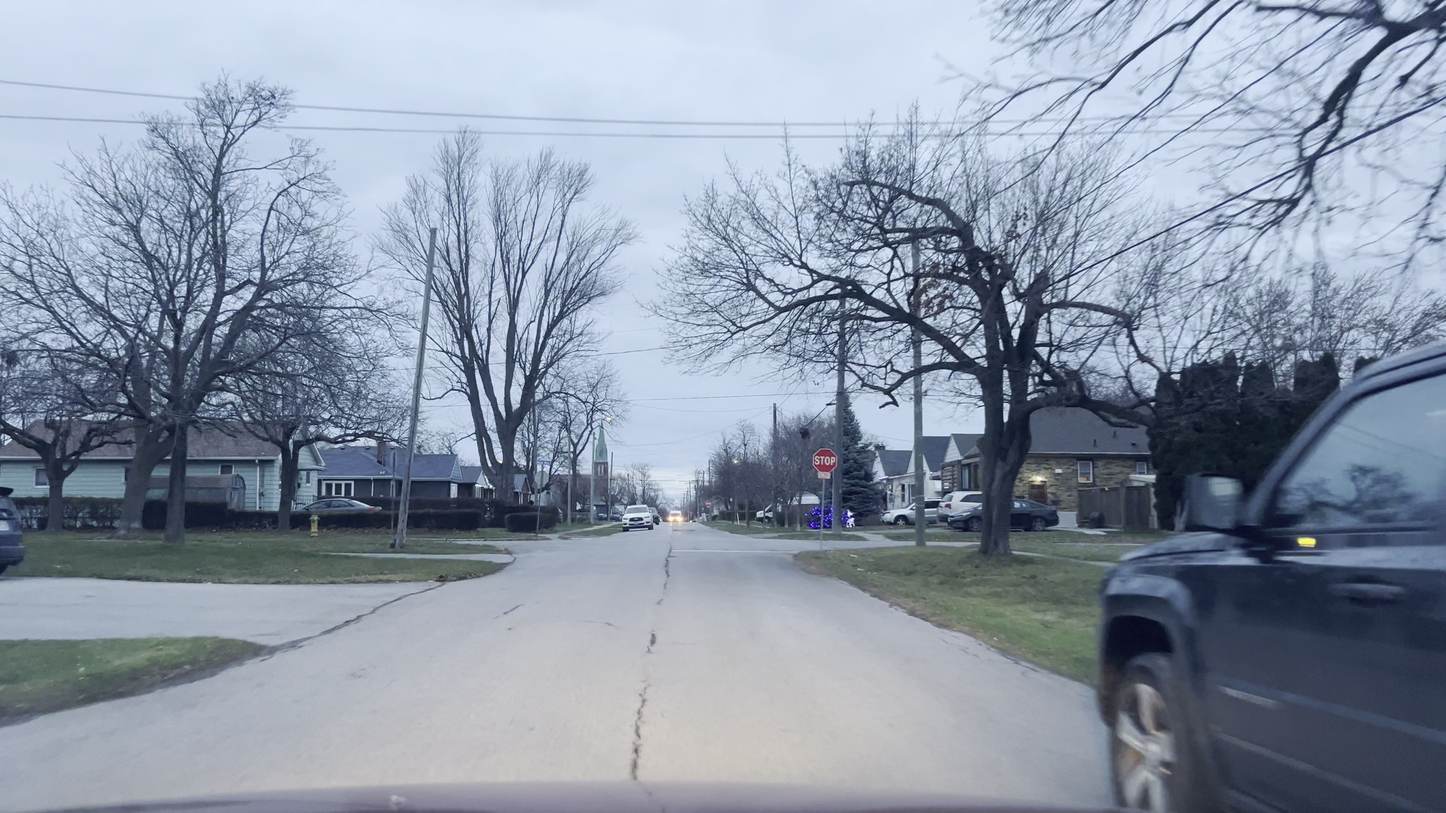cracks: (603, 644, 655, 769), (644, 539, 674, 632)
